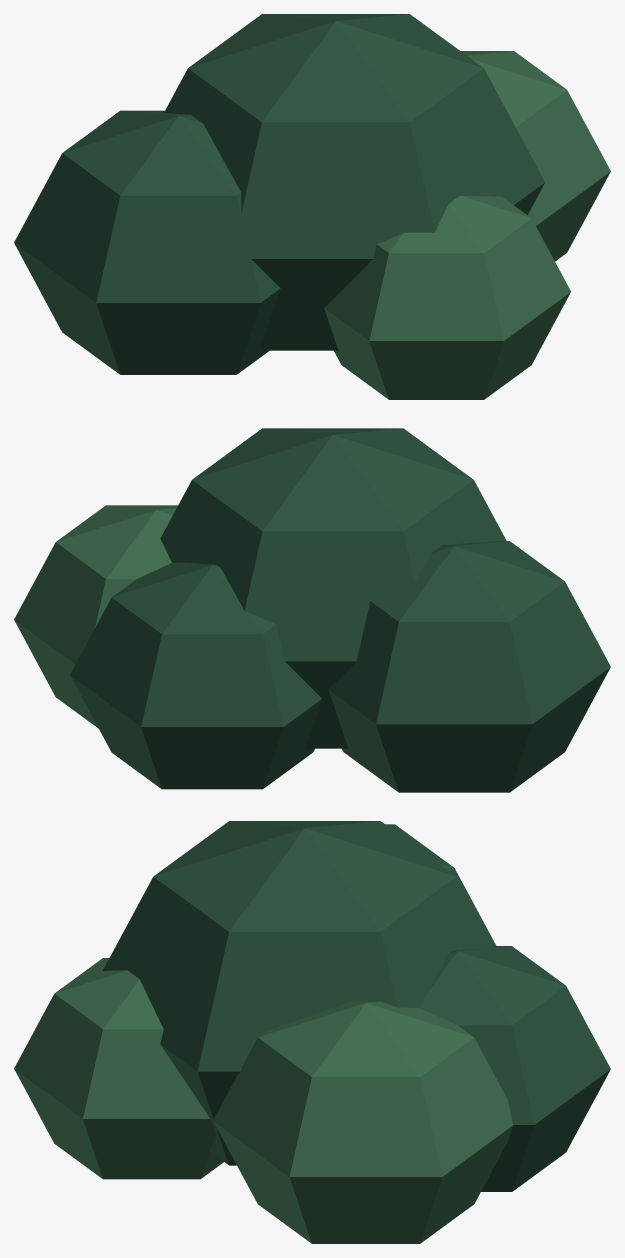
The model's file is nature_bush_a.glb.
3 renders of one model, top to bottom at view 1: azimuth 30°, elevation 25°; view 2: azimuth 150°, elevation 25°; view 3: azimuth 270°, elevation 25°, orthographic. The views are drawn at different scales.
Parts seen in each view (by area): view 1: nature_bush_a; view 2: nature_bush_a; view 3: nature_bush_a.
Boxes of the visible parts, x1,y1,x2,y2 form: nature_bush_a: (14,14,610,399); nature_bush_a: (14,428,610,792); nature_bush_a: (14,821,610,1243).
Size of the model in its own units: 2.06 by 1.2 by 1.95.
